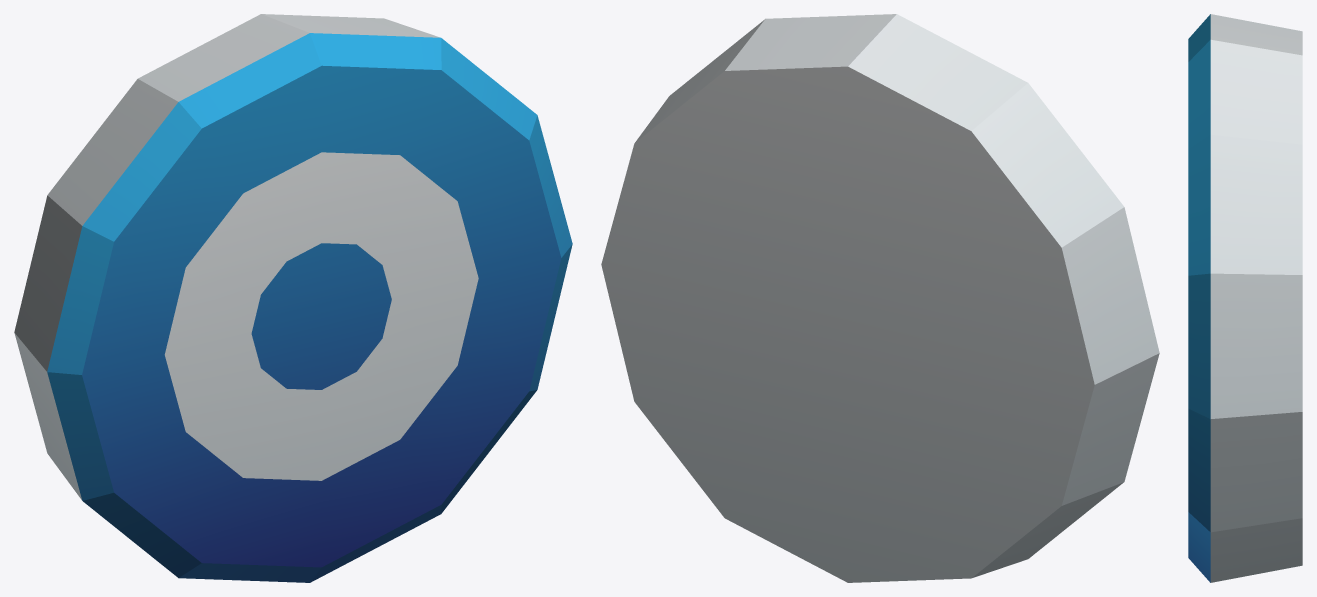
Rendered from Target.fbx.
3 renders of one model, left to right at view 1: azimuth 30°, elevation 25°; view 2: azimuth 150°, elevation 25°; view 3: azimuth 270°, elevation 25°, orthographic. The views are drawn at different scales.
Visible parts, largest first — view 1: Target; view 2: Target; view 3: Target.
Boxes of the visible parts, x1=… form: Target: x1=14, y1=14, x2=572, y2=582; Target: x1=601, y1=14, x2=1159, y2=582; Target: x1=1188, y1=14, x2=1302, y2=582.
Size of the model in its own units: 1 by 1 by 0.2.
